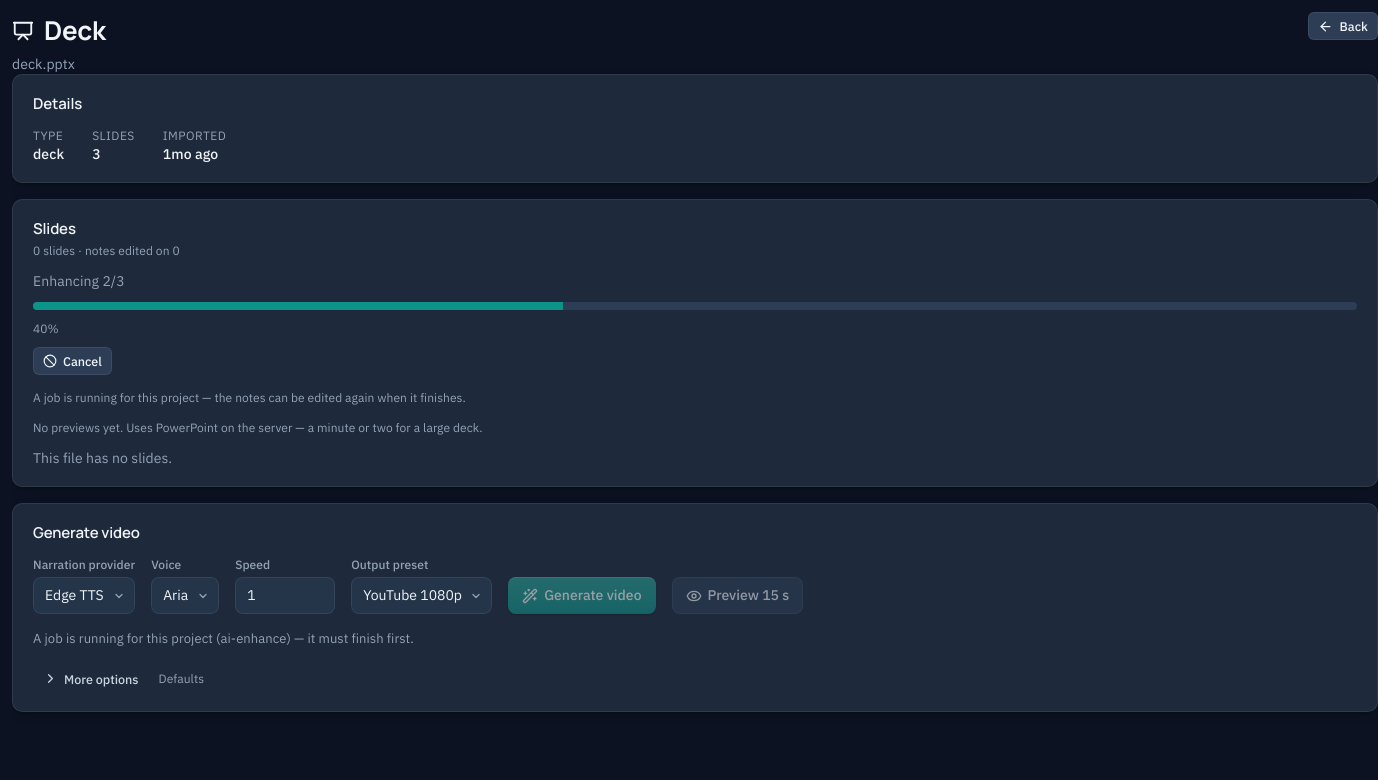
it: the Slides card's Cancel for an AI job (through the page's one cancel) › posts the cancel once for the starter and reads Cancelling…
Check: the element with class "os-card-title" shows "Enhancing 2/3", box [33,272,125,290]
Click the button "Cancel" at (72, 361), box [33,347,112,375]
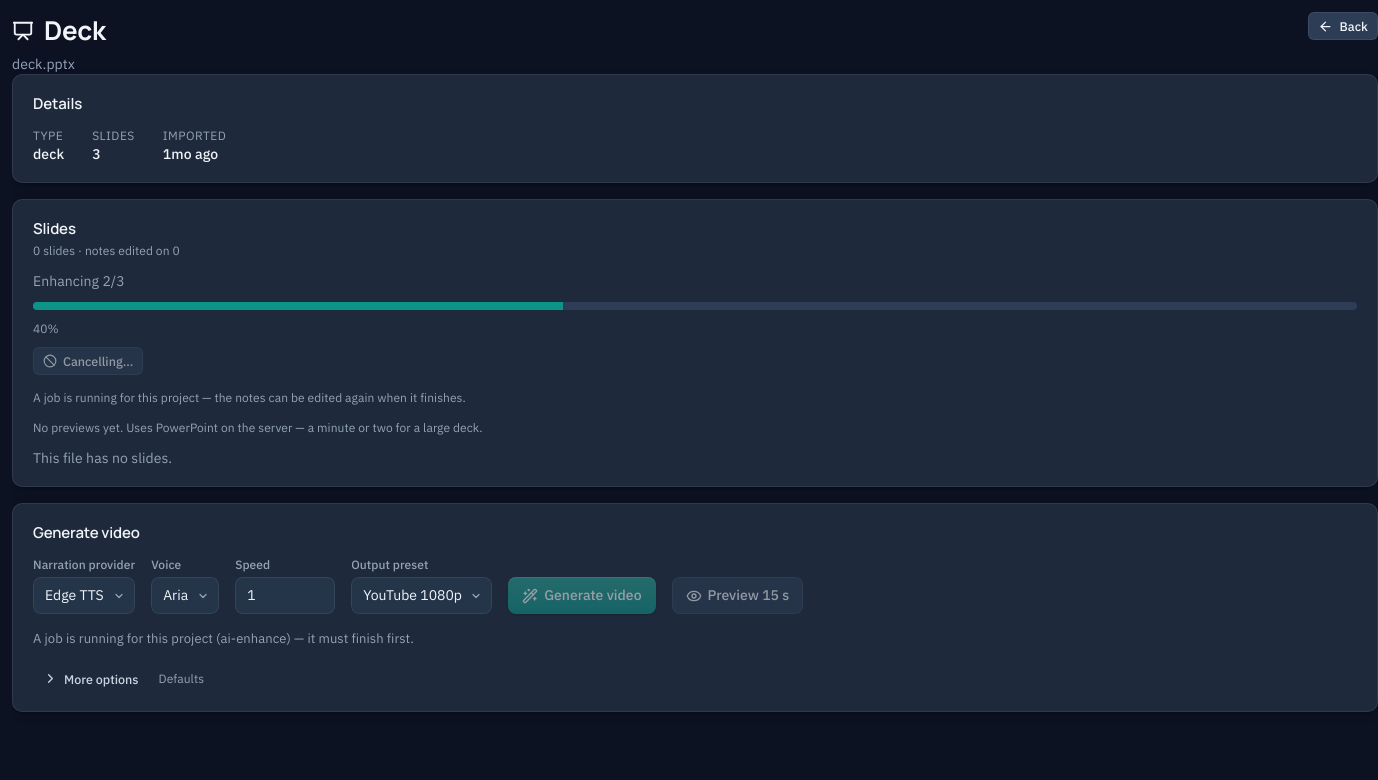
Check: the button "Cancelling…" is disabled, box [33,347,143,375]
